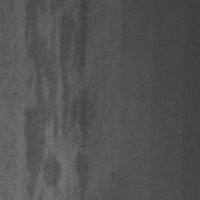inclusion: (19, 1, 91, 197)
